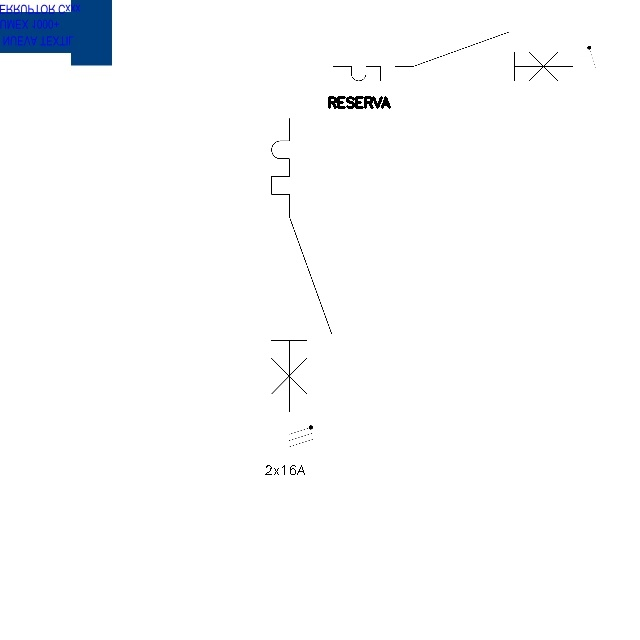interruptor_termomagnetico: (264, 111, 339, 419), (327, 26, 579, 87)
